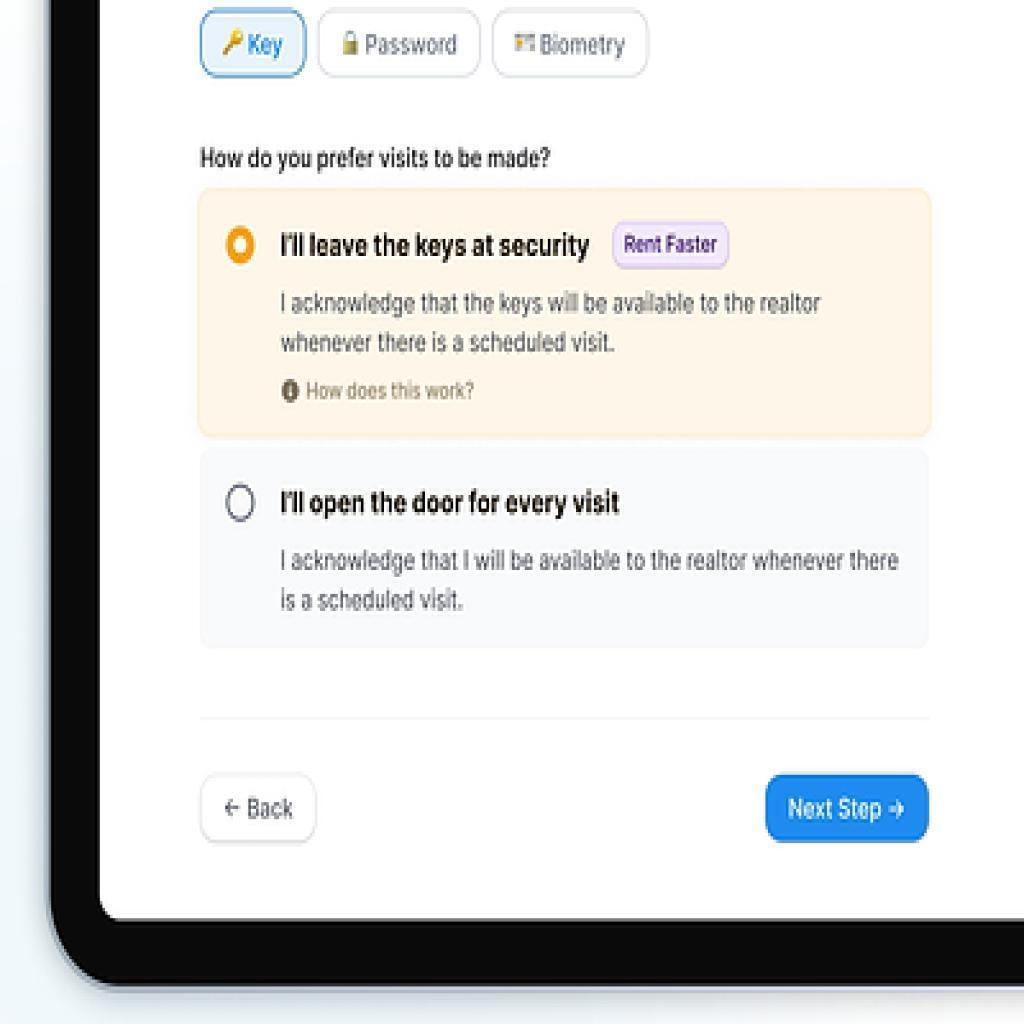button: (765, 771, 930, 842), (319, 5, 479, 78), (489, 10, 649, 80), (198, 775, 319, 844), (196, 5, 307, 78)
radio: (215, 476, 263, 535), (217, 217, 260, 279)
